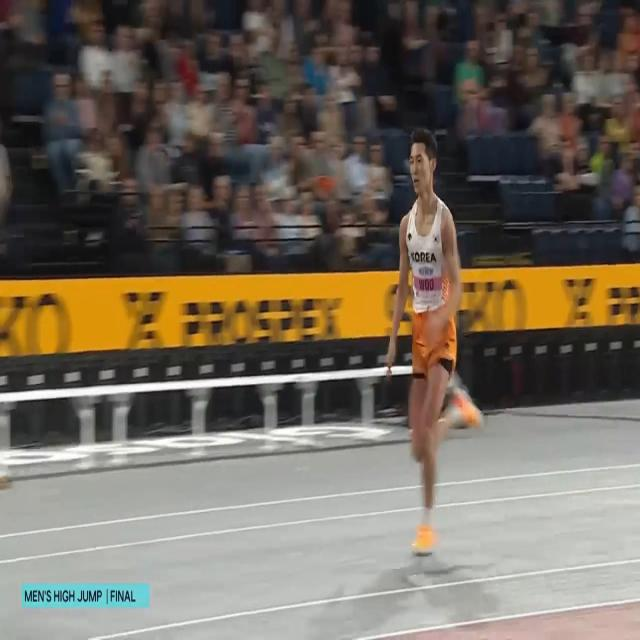run: (386, 123, 484, 562)
